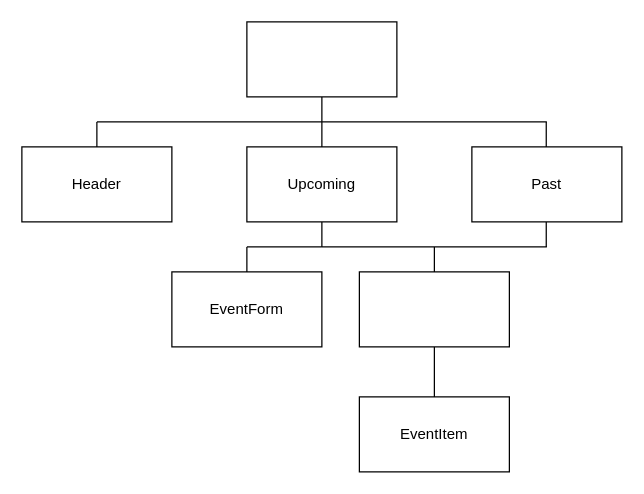
Some shapes in this 644 by 494 pixel diagram are drawn without their labels. The shapes that lost their labels are listed below. From the top down, each one's centre as x and y in pixels, then its label:
At point 321,59: "Index (Default)".
At point 433,309: "EventList".
